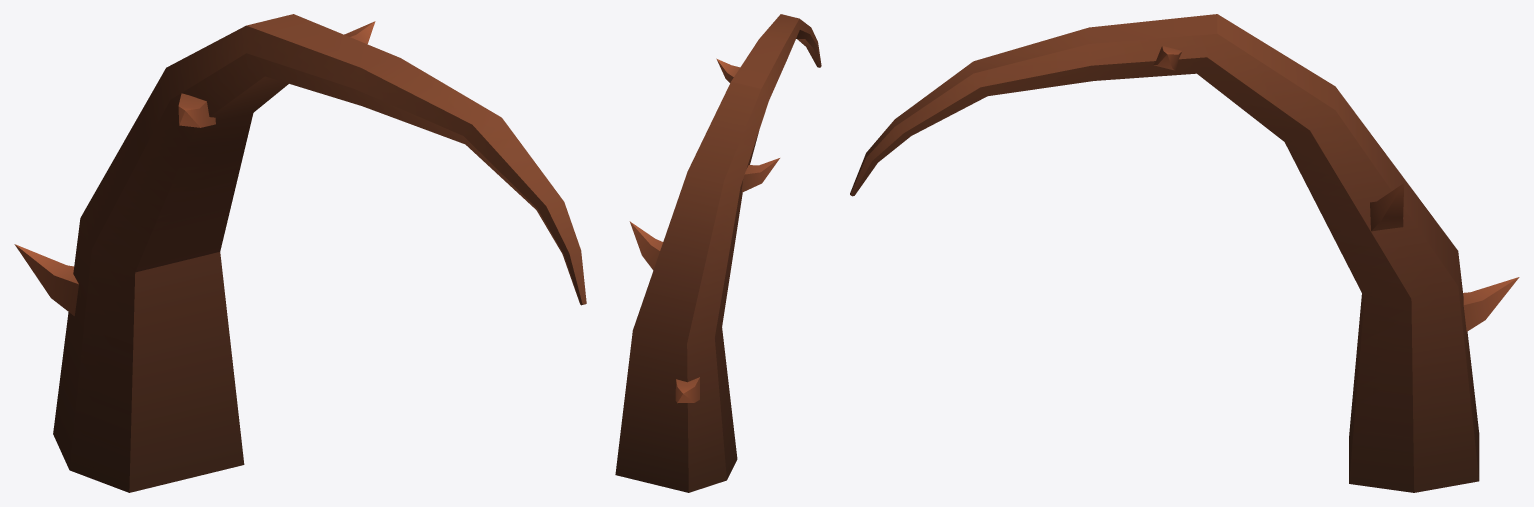
The model's file is Thorn_A_3.fbx.
3 views of the same model, side by side, from view 1: azimuth 30°, elevation 25°; view 2: azimuth 150°, elevation 25°; view 3: azimuth 270°, elevation 25° (orthographic). The views are drawn at different scales.
Parts seen in each view (by area): view 1: Thorn_A_3; view 2: Thorn_A_3; view 3: Thorn_A_3.
Part boxes in pixels (box(x1,y1,x2,y2)): Thorn_A_3: box(14, 14, 586, 492); Thorn_A_3: box(615, 14, 821, 492); Thorn_A_3: box(850, 14, 1519, 492).
Size of the model in its own units: 12.1 by 30.89 by 42.47.
